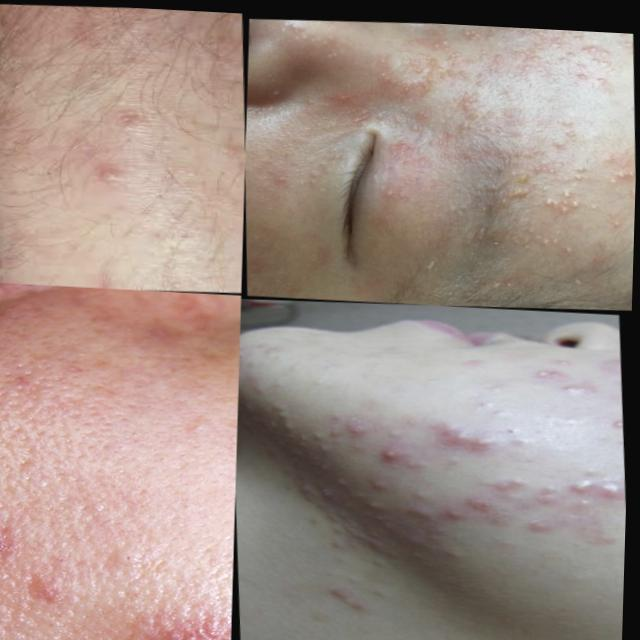8: (467, 488, 499, 508)
9: (92, 161, 132, 189), (448, 500, 485, 519), (567, 469, 604, 487), (488, 471, 535, 485), (601, 404, 625, 431), (524, 514, 559, 531), (478, 428, 508, 447), (460, 19, 486, 40), (380, 442, 406, 455), (605, 478, 626, 486)
blackheads: (0, 524, 39, 574), (138, 620, 235, 640), (347, 410, 378, 433), (528, 360, 567, 375), (468, 489, 502, 505)
pustules: (432, 414, 478, 445), (399, 496, 447, 520)
